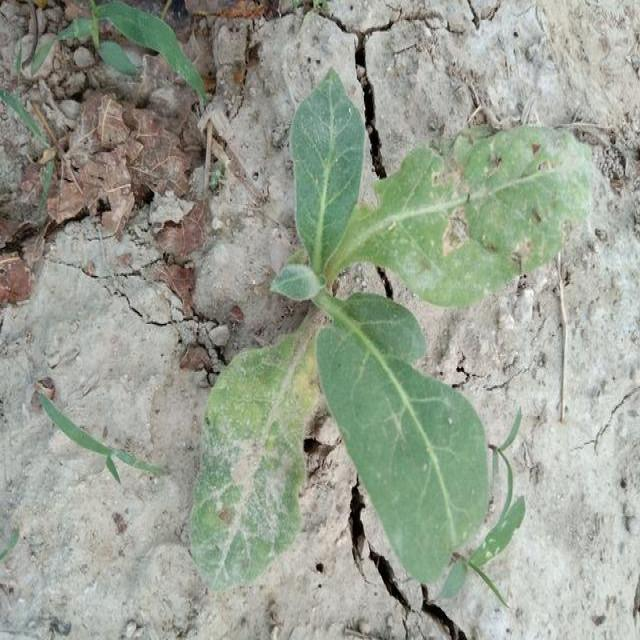crop: (176, 52, 590, 616)
